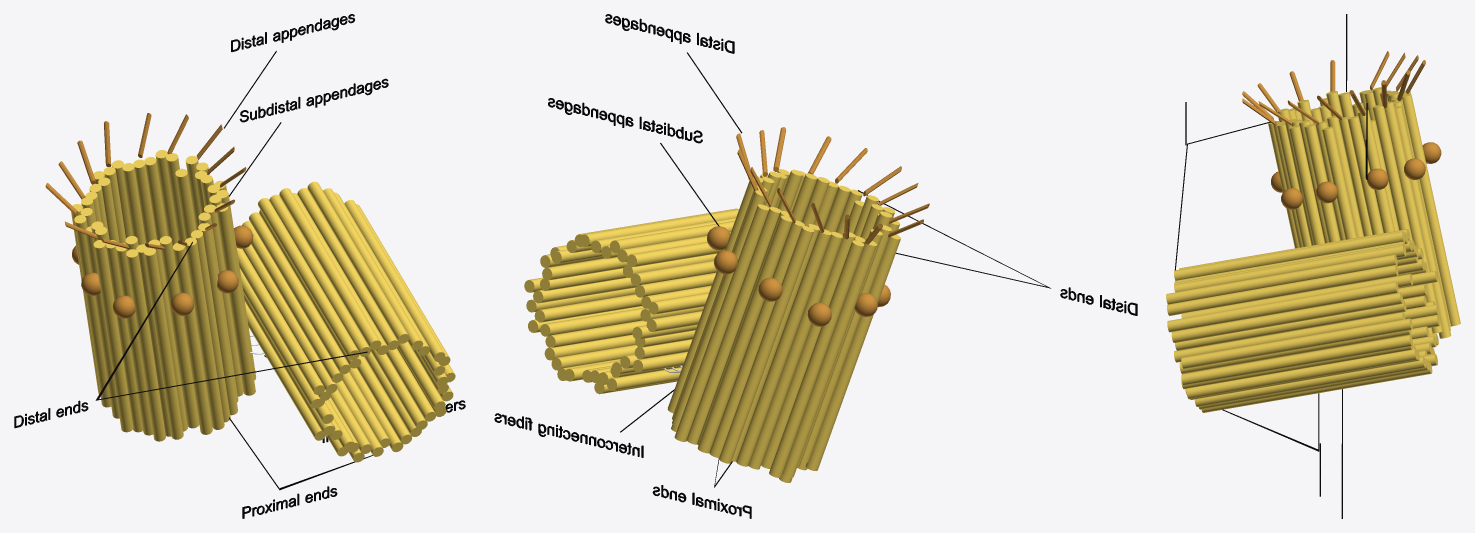
The model's file is structure_of_centrosome.glb.
3 views of the same model, side by side, from view 1: azimuth 30°, elevation 25°; view 2: azimuth 150°, elevation 25°; view 3: azimuth 270°, elevation 25° (orthographic). The views are drawn at different scales.
Parts seen in each view (by area): view 1: TextPlus001, Cylinder028_yellow_0, Cylinder024_yellow_0, Cylinder022_yellow_0, Cylinder018_yellow_0, Cylinder050_yellow_0, Cylinder048_yellow_0, Cylinder052_yellow_0, Cylinder045_yellow_0, Cylinder046_yellow_0, Cylinder026_yellow_0, Cylinder027_yellow_0 (+45 smaller); view 2: TextPlus001, Cylinder009_yellow_0, Cylinder007_yellow_0, Cylinder012_yellow_0, Cylinder005_yellow_0, Cylinder002_yellow_0, Cylinder014_yellow_0, Cylinder003_yellow_0, Cylinder010_yellow_0, Cylinder018_yellow_0, Cylinder006_yellow_0, Cylinder011_yellow_0 (+22 smaller); view 3: Cylinder078_yellow_0, Cylinder083_yellow_0, Cylinder080_yellow_0, Cylinder084_yellow_0, Cylinder086_yellow_0, Cylinder076_yellow_0, Cylinder044_yellow_0, Cylinder048_yellow_0, Cylinder005_yellow_0, Cylinder082_yellow_0, Cylinder045_yellow_0, Cylinder073_yellow_0 (+36 smaller).
Boxes of the visible parts, x1,y1,x2,y2 form: TextPlus001: [14, 14, 465, 518]; Cylinder028_yellow_0: [185, 237, 224, 429]; Cylinder024_yellow_0: [143, 247, 183, 439]; Cylinder022_yellow_0: [126, 249, 165, 441]; Cylinder018_yellow_0: [93, 240, 133, 432]; Cylinder050_yellow_0: [258, 198, 359, 359]; Cylinder048_yellow_0: [279, 188, 381, 350]; Cylinder052_yellow_0: [249, 212, 350, 374]; Cylinder045_yellow_0: [307, 181, 409, 343]; Cylinder046_yellow_0: [297, 188, 399, 349]; Cylinder026_yellow_0: [159, 236, 199, 428]; Cylinder027_yellow_0: [173, 242, 212, 434]; TextPlus001: [494, 14, 1137, 518]; Cylinder009_yellow_0: [736, 229, 831, 466]; Cylinder007_yellow_0: [719, 226, 814, 463]; Cylinder012_yellow_0: [769, 240, 864, 477]; Cylinder005_yellow_0: [697, 215, 792, 453]; Cylinder002_yellow_0: [674, 204, 769, 441]; Cylinder014_yellow_0: [782, 241, 876, 477]; Cylinder003_yellow_0: [686, 207, 780, 444]; Cylinder010_yellow_0: [748, 232, 842, 469]; Cylinder018_yellow_0: [805, 234, 900, 470]; Cylinder006_yellow_0: [709, 220, 804, 457]; Cylinder011_yellow_0: [761, 232, 855, 468]; Cylinder078_yellow_0: [1181, 335, 1412, 385]; Cylinder083_yellow_0: [1171, 292, 1403, 342]; Cylinder080_yellow_0: [1181, 318, 1412, 368]; Cylinder084_yellow_0: [1167, 281, 1398, 332]; Cylinder086_yellow_0: [1167, 265, 1398, 315]; Cylinder076_yellow_0: [1186, 348, 1417, 399]; Cylinder044_yellow_0: [1166, 254, 1397, 304]; Cylinder048_yellow_0: [1174, 231, 1405, 280]; Cylinder005_yellow_0: [1402, 94, 1460, 326]; Cylinder082_yellow_0: [1175, 300, 1406, 350]; Cylinder045_yellow_0: [1174, 245, 1406, 292]; Cylinder073_yellow_0: [1194, 356, 1425, 406].
Size of the model in its own units: 4.93 by 4.12 by 2.5.
